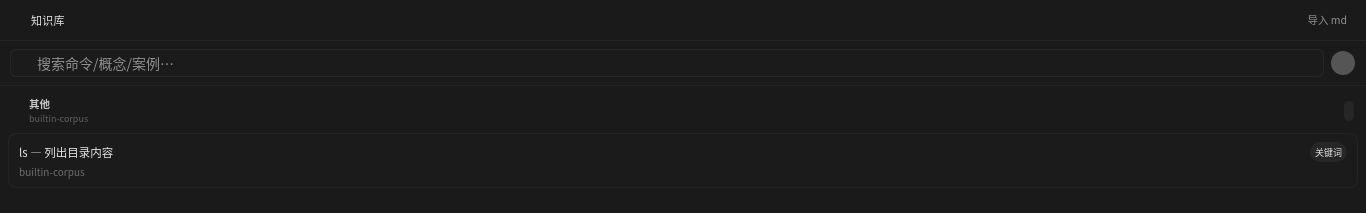
KnowledgePanel — 搜索模式 › 搜索命中条目显示所属文件名（从 hit.url 提取）
Expected: the text "ls — 列出目录内容" is shown, [19,144,113,160]
Type "chmod" into the field with placeholder "搜索命令/概念/案例…" at (676, 63), box [37,50,1315,76]
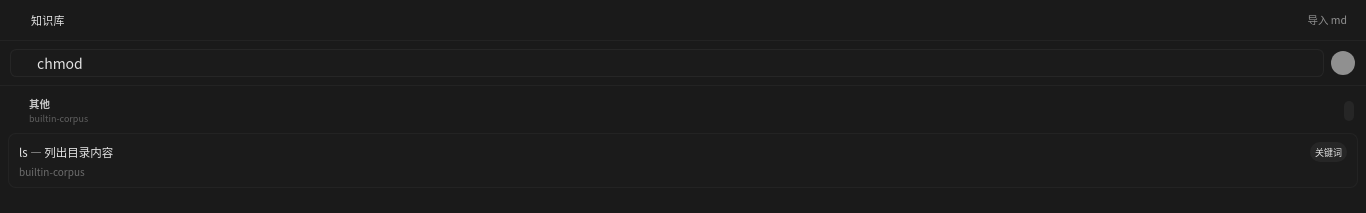
Click the button named "检索" at (1343, 63), box [1330,50,1356,76]
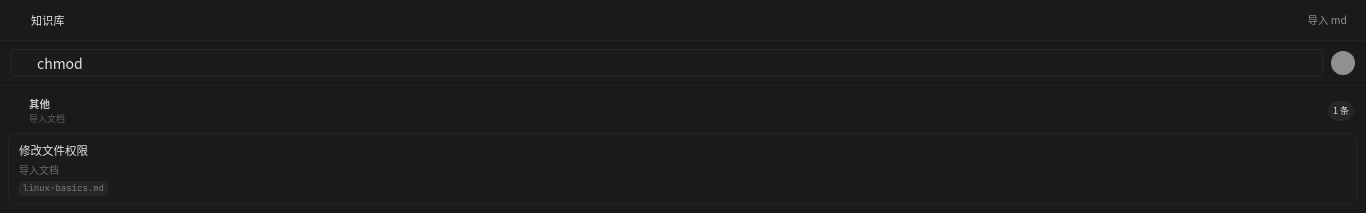
Now the text "修改文件权限" is shown, box [19,142,88,158]
Now the text "linux-basics.md" is shown, box [19,180,108,196]
